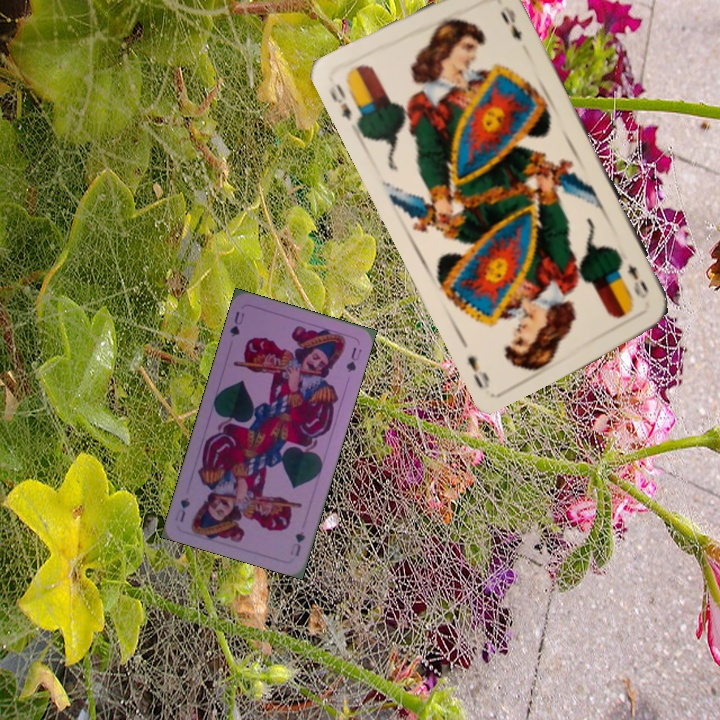EO: (325, 79, 354, 123), (623, 261, 652, 302)
GU: (226, 307, 247, 340), (286, 528, 308, 559)
